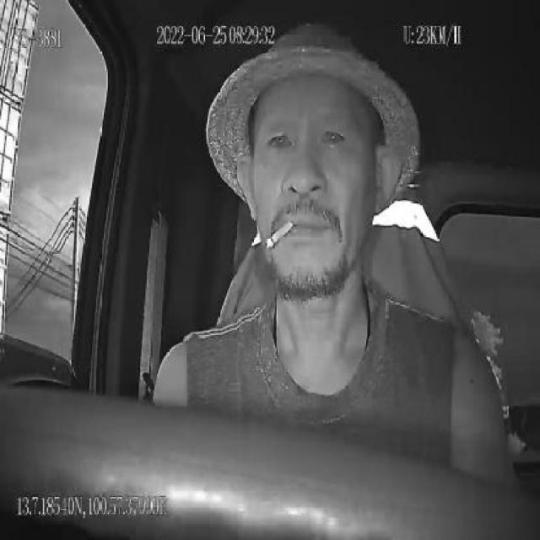smoking: (264, 217, 295, 253)
